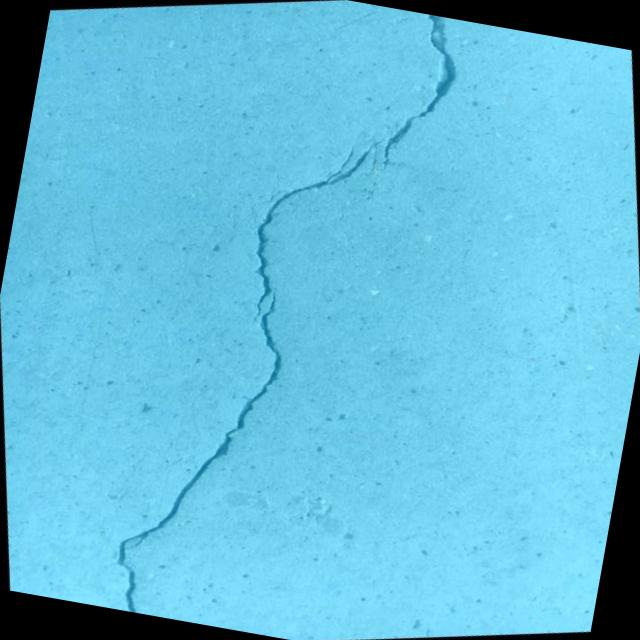crack: (20, 85, 482, 640), (346, 4, 485, 182), (325, 174, 368, 244)
